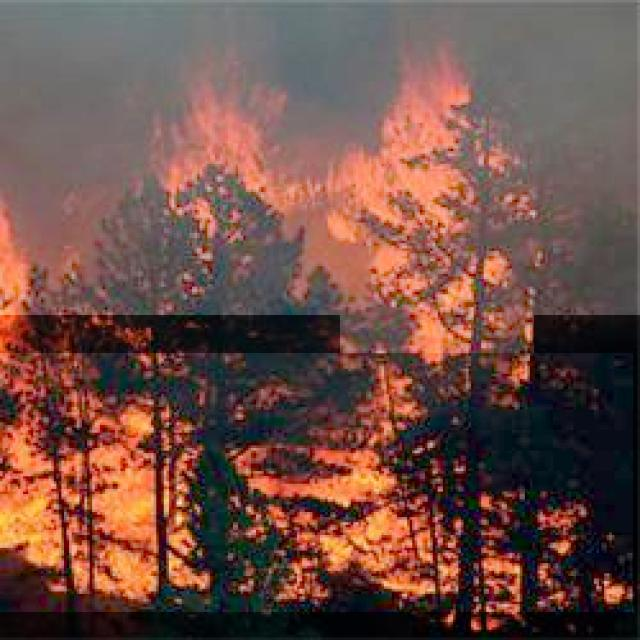Fire: (0, 353, 633, 612), (340, 75, 534, 359), (163, 83, 291, 255)
Smoke: (0, 0, 640, 315)
